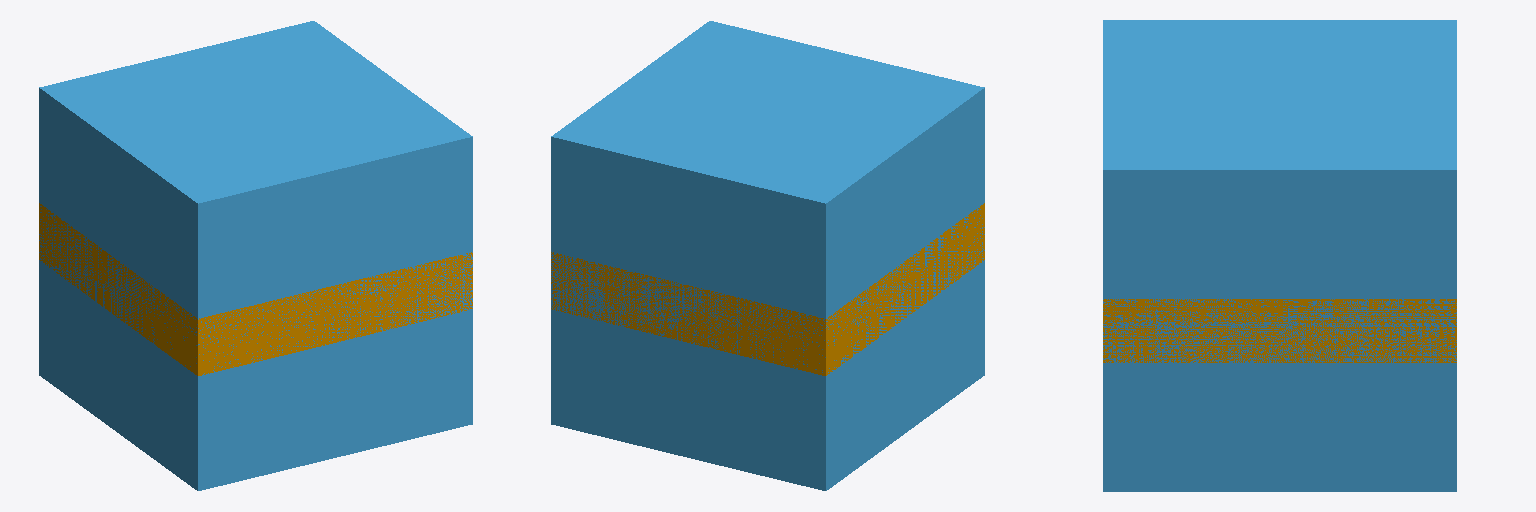
The robot description file, URDF, robot "basic_shapes":
<?xml version="1.0"?>
<robot name="basic_shapes">

  <link name="base_link">
    <visual>
        <geometry>
            <box size="1.0 1.0 0.2"/>
        </geometry>
    </visual>
  </link>

  <link name="link1">
    <visual>
      <geometry>
        <box size="1 1 1"/>
      </geometry>
    </visual>
  </link>
  
  <joint name="joint1" type="fixed">
    <parent link="base_link"/>
    <child link="link1"/>
  </joint>
</robot>

--- Render facts (derived) ---
Views: 3 orthographic renders of the robot side by side, from view 1: azimuth 30°, elevation 25°; view 2: azimuth 150°, elevation 25°; view 3: azimuth 270°, elevation 25°.
Model basic_shapes with 2 links and 1 joints (1 fixed), rooted at base_link, posed every joint at zero.
Visible links, largest first — view 1: link1, base_link; view 2: link1, base_link; view 3: link1, base_link.
Boxes of the visible links, x1,y1,x2,y2 form: link1: (39,21,472,490); base_link: (39,203,472,375); link1: (551,21,984,490); base_link: (551,203,984,375); link1: (1103,20,1456,491); base_link: (1103,299,1456,362).
Size in the robot's own frame: 1 by 1 by 1 metres.
Geometry: primitives only (box / cylinder / sphere), no mesh files.